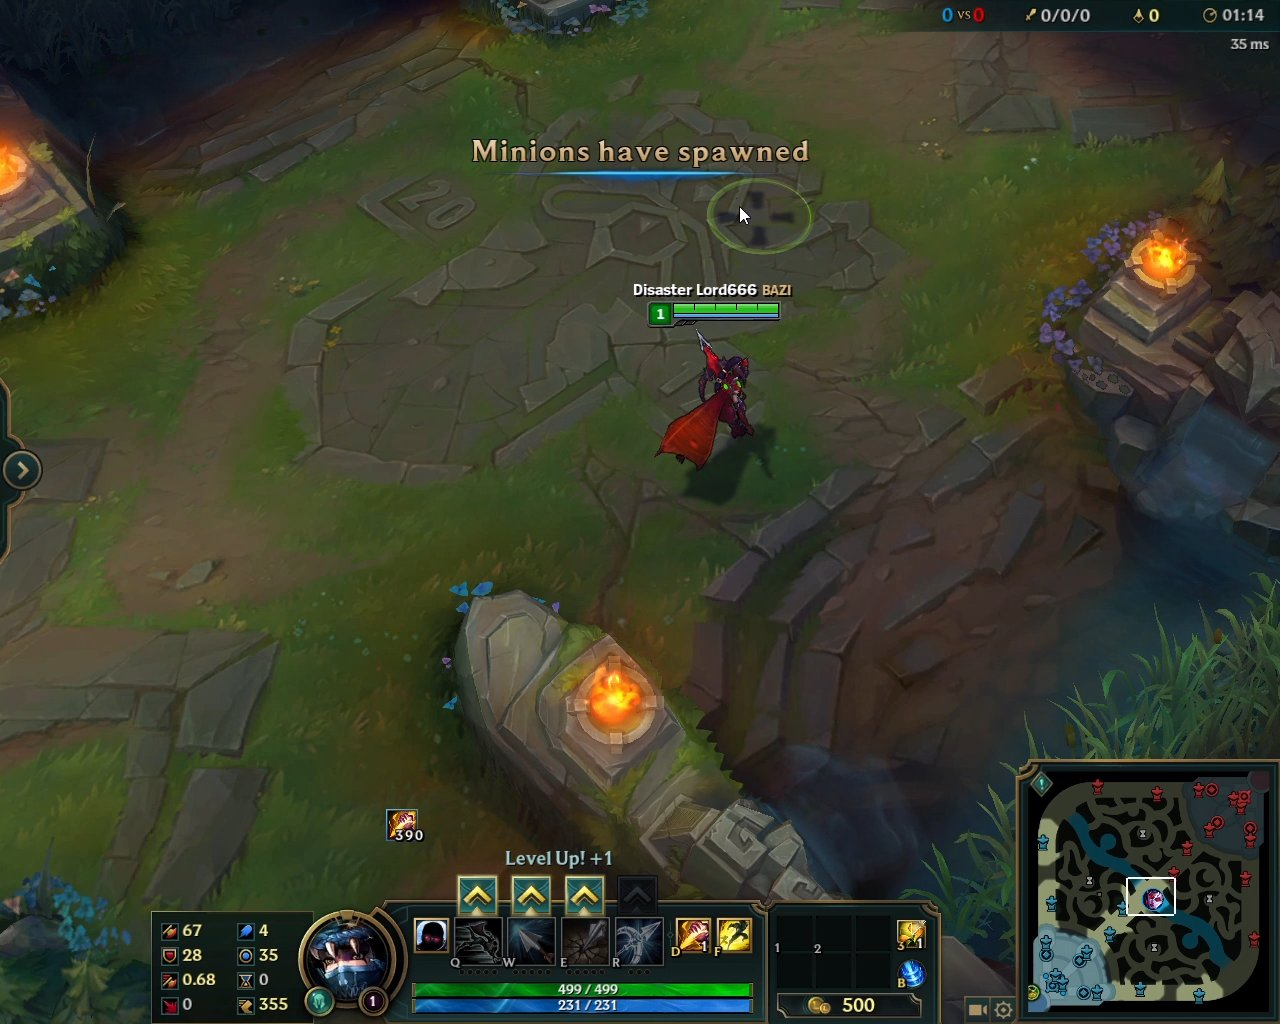Vayne: (647, 327, 763, 476)
